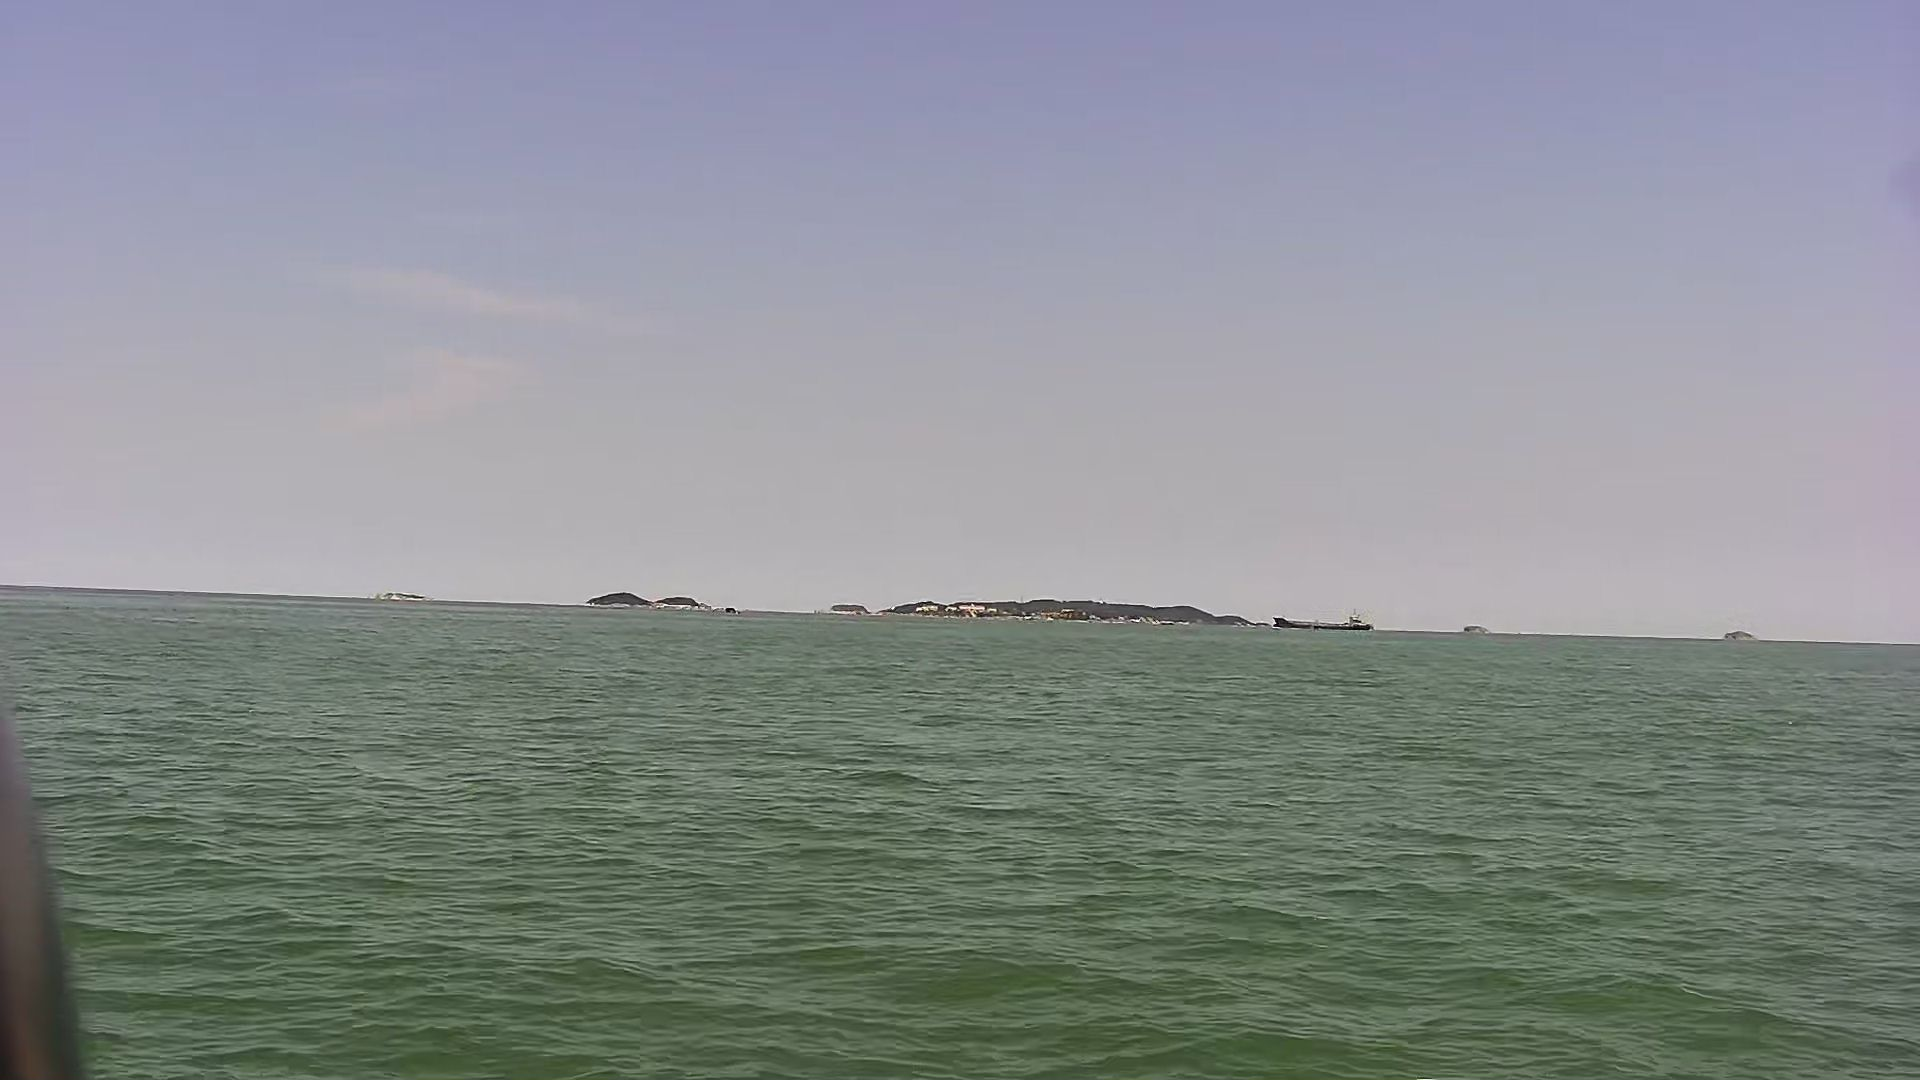rock: (822, 597, 1267, 632), (655, 588, 742, 618), (587, 583, 651, 611)
ship: (1274, 603, 1379, 636)
